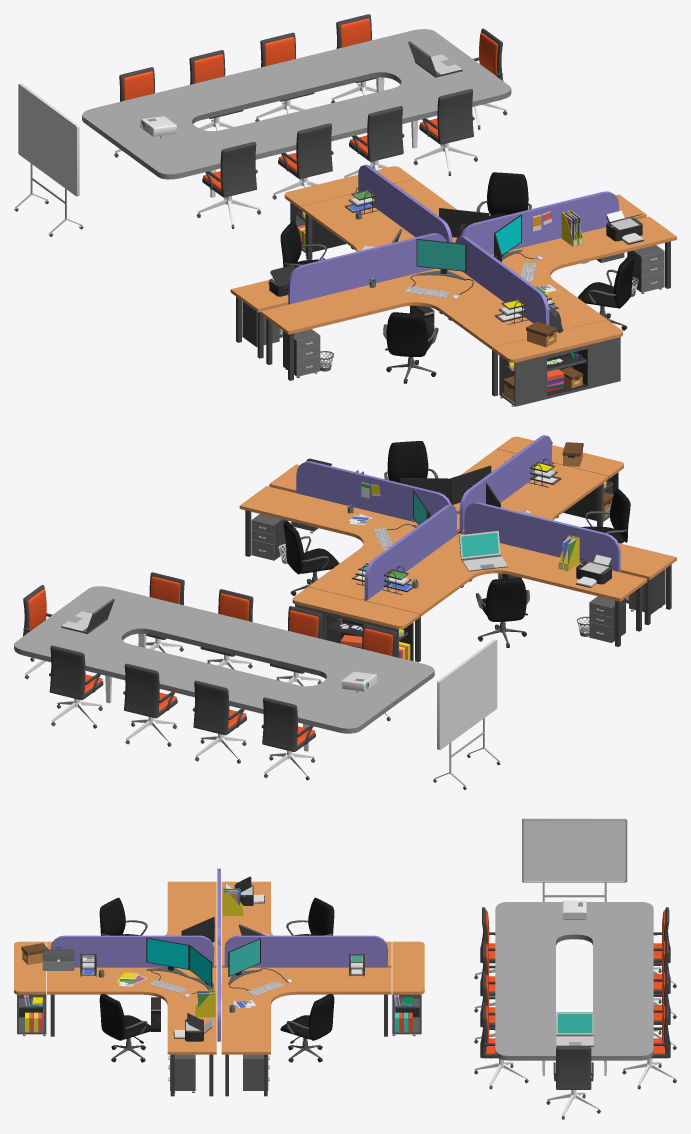
Rendered from Office_Pack.fbx.
The picture shows the model from 3 angles, top to bottom: view 1: azimuth 30°, elevation 25°; view 2: azimuth 150°, elevation 25°; view 3: azimuth 270°, elevation 25°; orthographic projection. The views are drawn at different scales.
Parts seen in each view (by area): view 1: Base, meet_Desk, whiteboard, Cube.012, Cube.008, Cube.010, Cube.009, chair.002, chair.001, chair.003, screen.003, Cube.015 (+11 smaller); view 2: Base, meet_Desk, whiteboard, Cube.013, Cube.014, Cube.015, Cube.016, chair, chair.001, chair.003, Cube.004, Cube.009 (+12 smaller); view 3: Base, meet_Desk, whiteboard, Cube.011, chair.001, chair.003, Cube.017, screen, Cube.016, screen.002, Cube.008, chair (+15 smaller).
Boxes of the visible parts, <box> form: Base: <box>230,164,676,406</box>; meet_Desk: <box>82,29,511,197</box>; whiteboard: <box>14,83,83,236</box>; Cube.012: <box>196,142,261,228</box>; Cube.008: <box>413,89,477,175</box>; Cube.010: <box>272,123,333,199</box>; Cube.009: <box>344,106,404,177</box>; chair.002: <box>383,312,438,383</box>; chair.001: <box>476,172,531,219</box>; chair.003: <box>577,254,634,330</box>; screen.003: <box>416,238,466,280</box>; Cube.015: <box>255,32,314,121</box>; Base: <box>239,435,676,662</box>; meet_Desk: <box>14,586,434,751</box>; whiteboard: <box>433,639,501,789</box>; Cube.013: <box>261,697,315,780</box>; Cube.014: <box>192,680,246,763</box>; Cube.015: <box>123,663,177,746</box>; Cube.016: <box>49,645,103,728</box>; chair: <box>475,578,529,647</box>; chair.001: <box>283,521,339,595</box>; chair.003: <box>384,441,438,482</box>; Cube.004: <box>459,530,507,571</box>; Cube.009: <box>200,589,253,670</box>; Base: <box>14,868,424,1096</box>; meet_Desk: <box>495,902,653,1075</box>; whiteboard: <box>522,818,627,901</box>; Cube.011: <box>546,1046,600,1119</box>; chair.001: <box>280,994,334,1062</box>; chair.003: <box>99,994,153,1062</box>; Cube.017: <box>556,1012,593,1046</box>; screen: <box>146,937,189,977</box>; Cube.016: <box>622,1002,676,1089</box>; screen.002: <box>228,938,261,984</box>; Cube.008: <box>474,1002,528,1089</box>; chair: <box>286,897,334,935</box>.
Size of the model in its own units: 931 by 219 by 1269.
